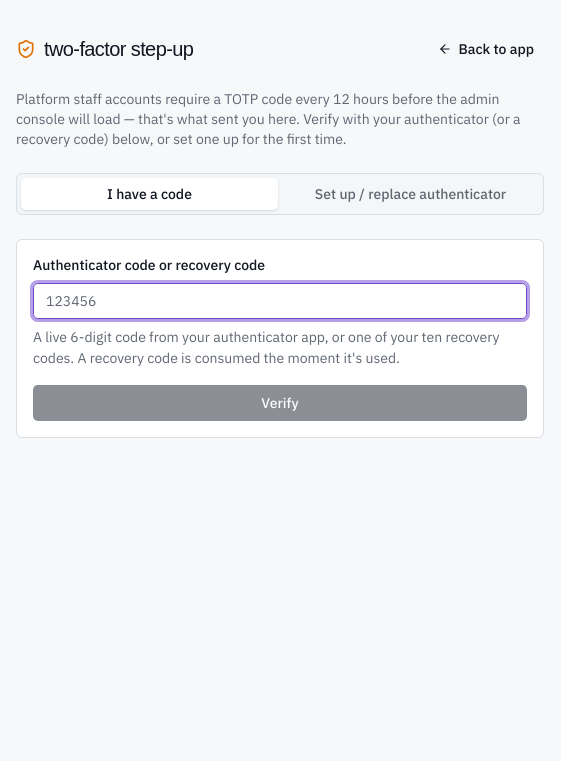
AdminTwoFactorPage › runs the full enroll -> confirm -> recovery-codes sequence
Click the button "Set up / replace authenticator" at (410,194), box x1=282 y1=178 x2=539 y2=210
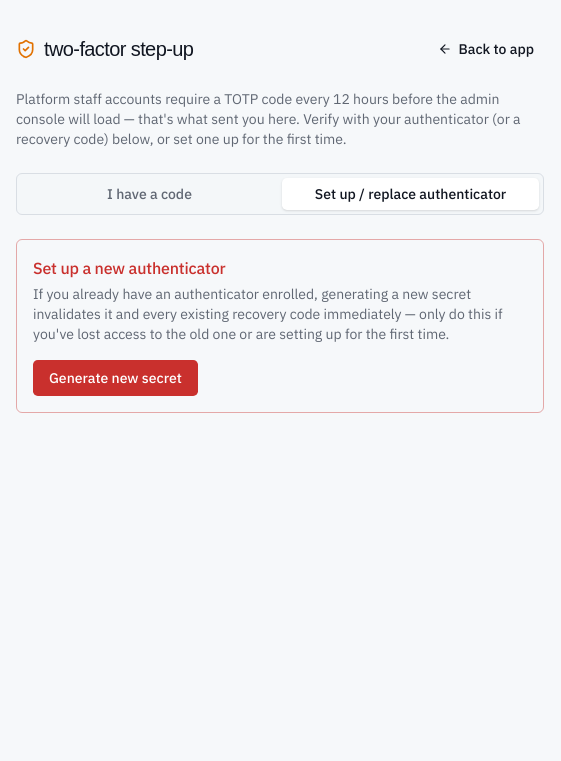
Click the button "Generate new secret" at (115,378), box x1=33 y1=360 x2=198 y2=396
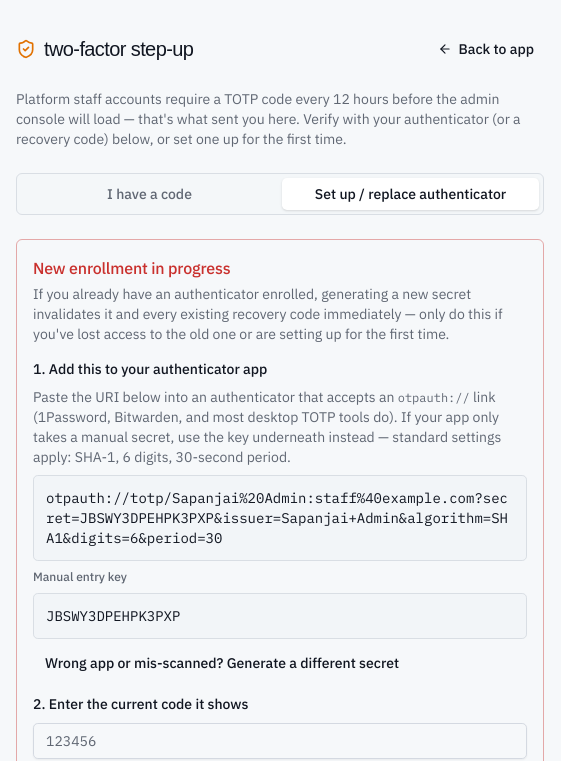
Check: the text "otpauth://totp" is shown, box x1=46 y1=489 x2=508 y2=547
Check: the text "JBSWY3DPEHPK3PXP" is shown, box x1=46 y1=607 x2=180 y2=625
Type "654321" into the field labelled "2. Enter the current code it shows" at (280,740), box x1=33 y1=722 x2=527 y2=758
(page scrolled)
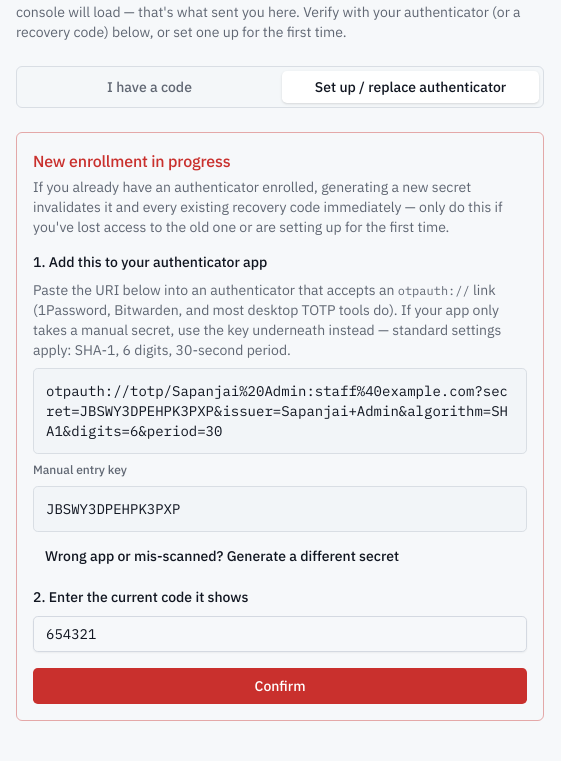
Click the button "Confirm" at (280,686), box x1=33 y1=668 x2=527 y2=704
(page scrolled)
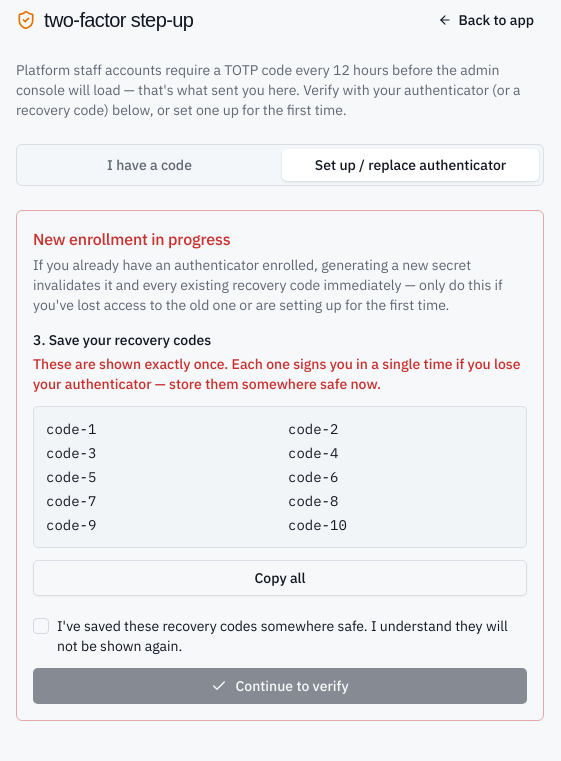
Check: the text "code-1" is shown, box x1=46 y1=420 x2=96 y2=438
Check: the text "code-10" is shown, box x1=288 y1=516 x2=347 y2=534
Check: the text "shown exactly once" is shown, box x1=33 y1=355 x2=520 y2=393
Click the checkbox named "i've saved these recovery codes somewhere safe" at (41,626), box x1=33 y1=618 x2=49 y2=634
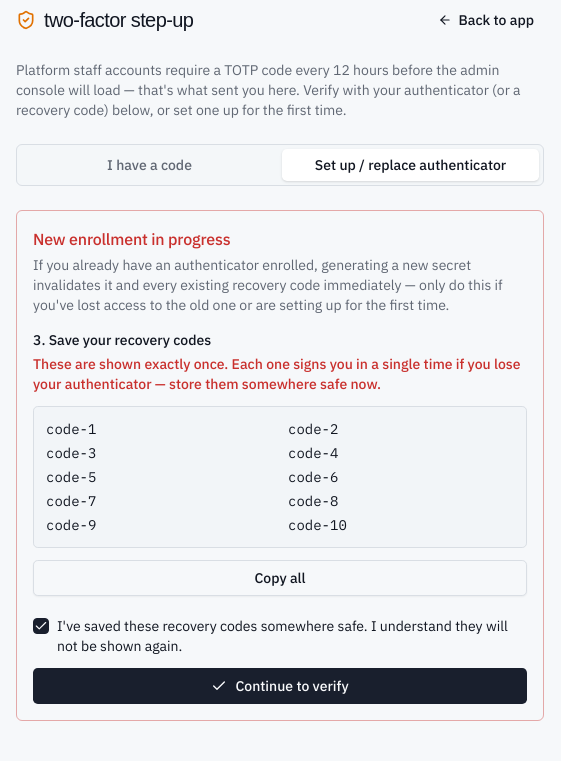
Check: the button "Continue to verify" is enabled
Click the button "Continue to verify" at (280,686), box x1=33 y1=668 x2=527 y2=704
(page scrolled)
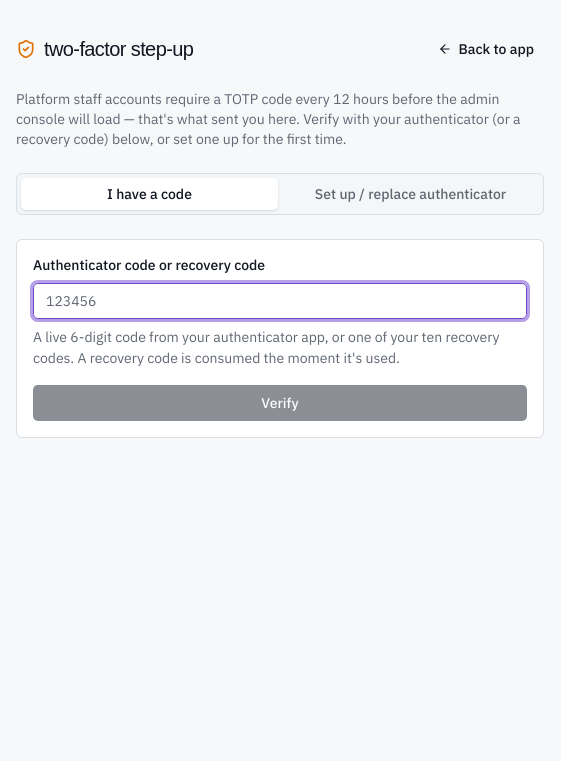
Check: the button "Verify" is shown, box x1=33 y1=385 x2=527 y2=421
Check: the text "code-1" is gone
